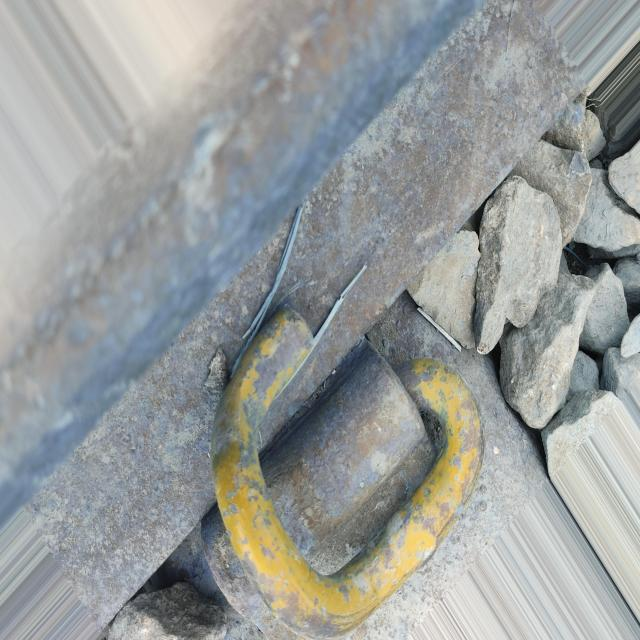Good Fasteners: (160, 295, 488, 640)
